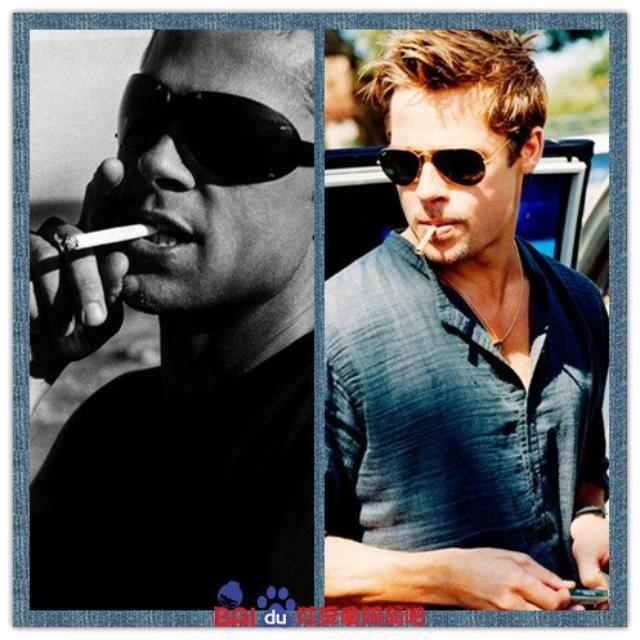Smoking: (61, 223, 156, 253), (416, 222, 436, 258)
